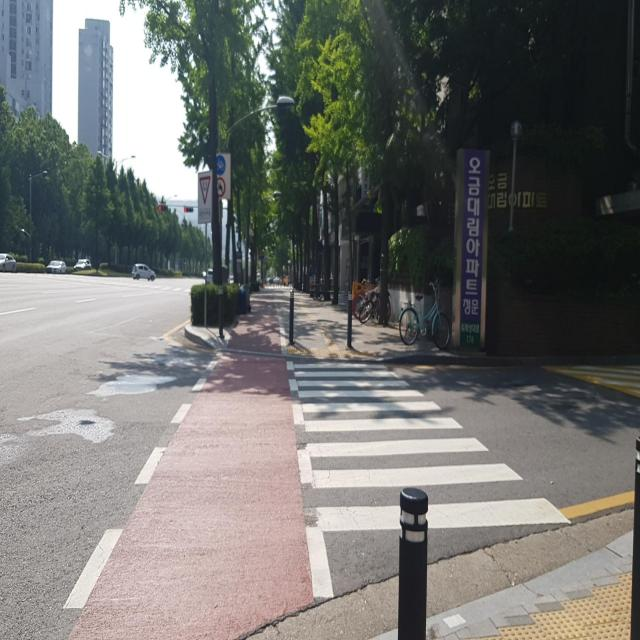횡단보도: (291, 360, 574, 536)
